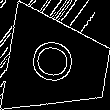O_E: (30, 38, 85, 90)
